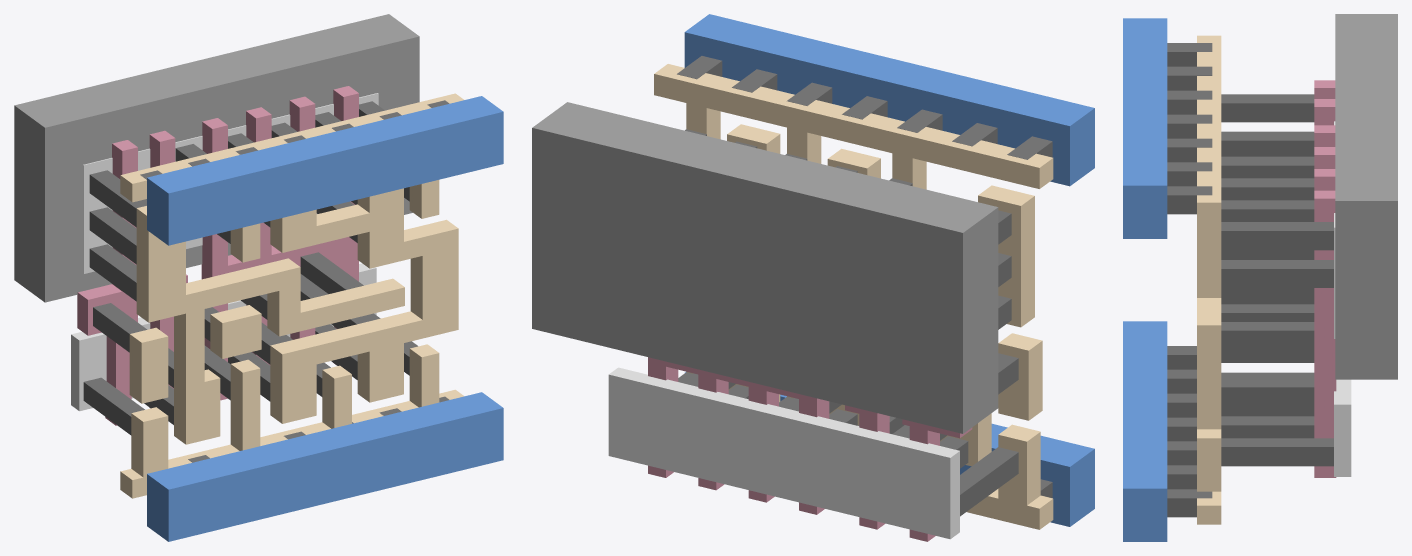
File: sky130_fd_sc_hd__or2_4.gds.gltf
The picture shows the model from 3 angles, left to right: view 1: azimuth 30°, elevation 25°; view 2: azimuth 150°, elevation 25°; view 3: azimuth 270°, elevation 25°; orthographic projection. The views are drawn at different scales.
Parts seen in each view (by area): view 1: sky130_fd_sc_hd__or2_4_li1, sky130_fd_sc_hd__or2_4_met1, sky130_fd_sc_hd__or2_4_nwell, sky130_fd_sc_hd__or2_4_licon, sky130_fd_sc_hd__or2_4_poly, sky130_fd_sc_hd__or2_4_diff, sky130_fd_sc_hd__or2_4_mcon; view 2: sky130_fd_sc_hd__or2_4_nwell, sky130_fd_sc_hd__or2_4_diff, sky130_fd_sc_hd__or2_4_li1, sky130_fd_sc_hd__or2_4_met1, sky130_fd_sc_hd__or2_4_licon, sky130_fd_sc_hd__or2_4_poly, sky130_fd_sc_hd__or2_4_mcon; view 3: sky130_fd_sc_hd__or2_4_licon, sky130_fd_sc_hd__or2_4_nwell, sky130_fd_sc_hd__or2_4_met1, sky130_fd_sc_hd__or2_4_mcon, sky130_fd_sc_hd__or2_4_li1, sky130_fd_sc_hd__or2_4_poly, sky130_fd_sc_hd__or2_4_diff.
Part boxes in pixels (bbox=[...]): sky130_fd_sc_hd__or2_4_li1: bbox=[120, 93, 463, 498]; sky130_fd_sc_hd__or2_4_met1: bbox=[147, 96, 503, 541]; sky130_fd_sc_hd__or2_4_nwell: bbox=[14, 14, 419, 302]; sky130_fd_sc_hd__or2_4_licon: bbox=[83, 101, 417, 435]; sky130_fd_sc_hd__or2_4_poly: bbox=[77, 86, 358, 425]; sky130_fd_sc_hd__or2_4_diff: bbox=[71, 93, 378, 411]; sky130_fd_sc_hd__or2_4_mcon: bbox=[140, 100, 449, 462]; sky130_fd_sc_hd__or2_4_nwell: bbox=[532, 102, 998, 433]; sky130_fd_sc_hd__or2_4_diff: bbox=[608, 367, 959, 539]; sky130_fd_sc_hd__or2_4_li1: bbox=[654, 64, 1053, 529]; sky130_fd_sc_hd__or2_4_met1: bbox=[684, 14, 1094, 526]; sky130_fd_sc_hd__or2_4_licon: bbox=[678, 129, 1018, 516]; sky130_fd_sc_hd__or2_4_poly: bbox=[648, 357, 972, 541]; sky130_fd_sc_hd__or2_4_mcon: bbox=[677, 56, 1052, 498]; sky130_fd_sc_hd__or2_4_licon: bbox=[1221, 94, 1333, 466]; sky130_fd_sc_hd__or2_4_nwell: bbox=[1335, 14, 1397, 379]; sky130_fd_sc_hd__or2_4_met1: bbox=[1123, 18, 1167, 541]; sky130_fd_sc_hd__or2_4_mcon: bbox=[1167, 43, 1212, 517]; sky130_fd_sc_hd__or2_4_li1: bbox=[1197, 35, 1221, 524]; sky130_fd_sc_hd__or2_4_poly: bbox=[1314, 80, 1336, 477]; sky130_fd_sc_hd__or2_4_diff: bbox=[1334, 121, 1351, 476].
Bounding box in the file's own units: 3.6 × 3.2 × 2.24.
